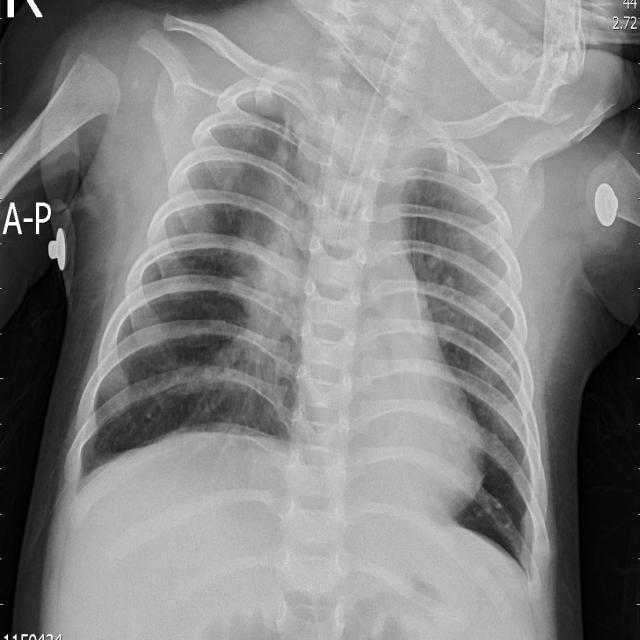high-pneumonia: (222, 190, 312, 423), (264, 69, 329, 172)
